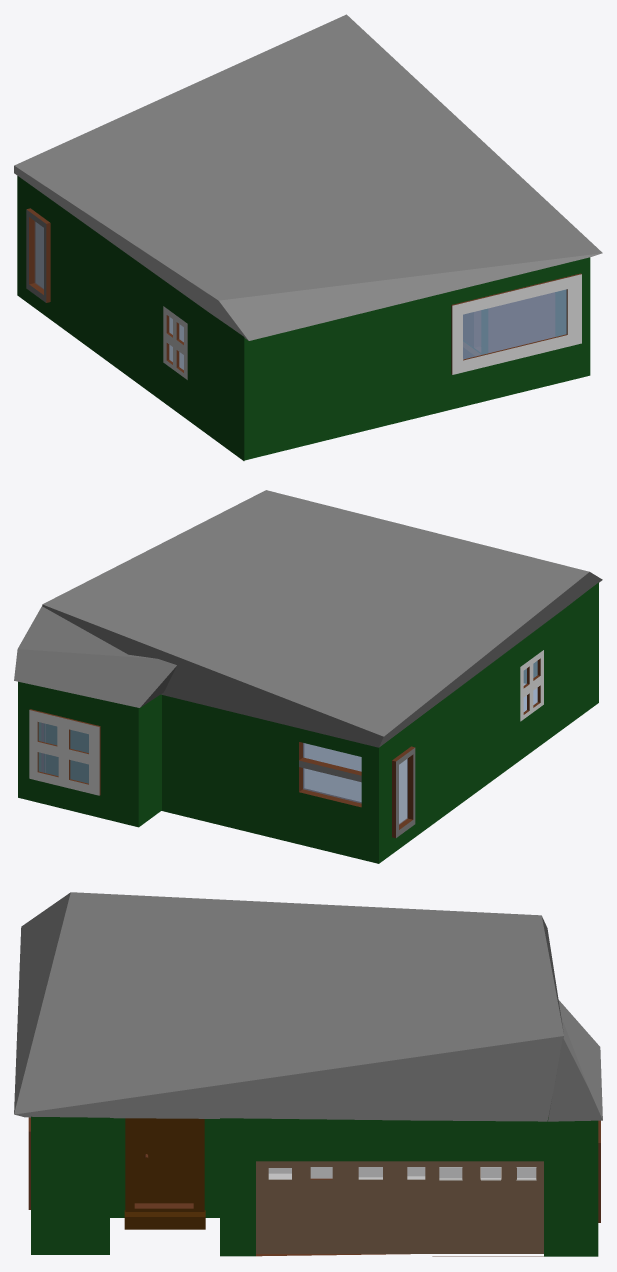
File: house2.fbx
3 views of the same model, one above another, from view 1: azimuth 30°, elevation 25°; view 2: azimuth 150°, elevation 25°; view 3: azimuth 270°, elevation 25° (orthographic). The views are drawn at different scales.
Visible parts, largest first — view 1: house2, Cube; view 2: house2, Cube; view 3: house2.
Part boxes in pixels (bbox=[...]): house2: bbox=[14, 14, 602, 460]; Cube: bbox=[34, 221, 43, 289]; house2: bbox=[14, 490, 602, 863]; Cube: bbox=[399, 758, 407, 824]; house2: bbox=[14, 892, 602, 1256].
Bounding box in the file's own units: 2078 × 1073 × 2603.
